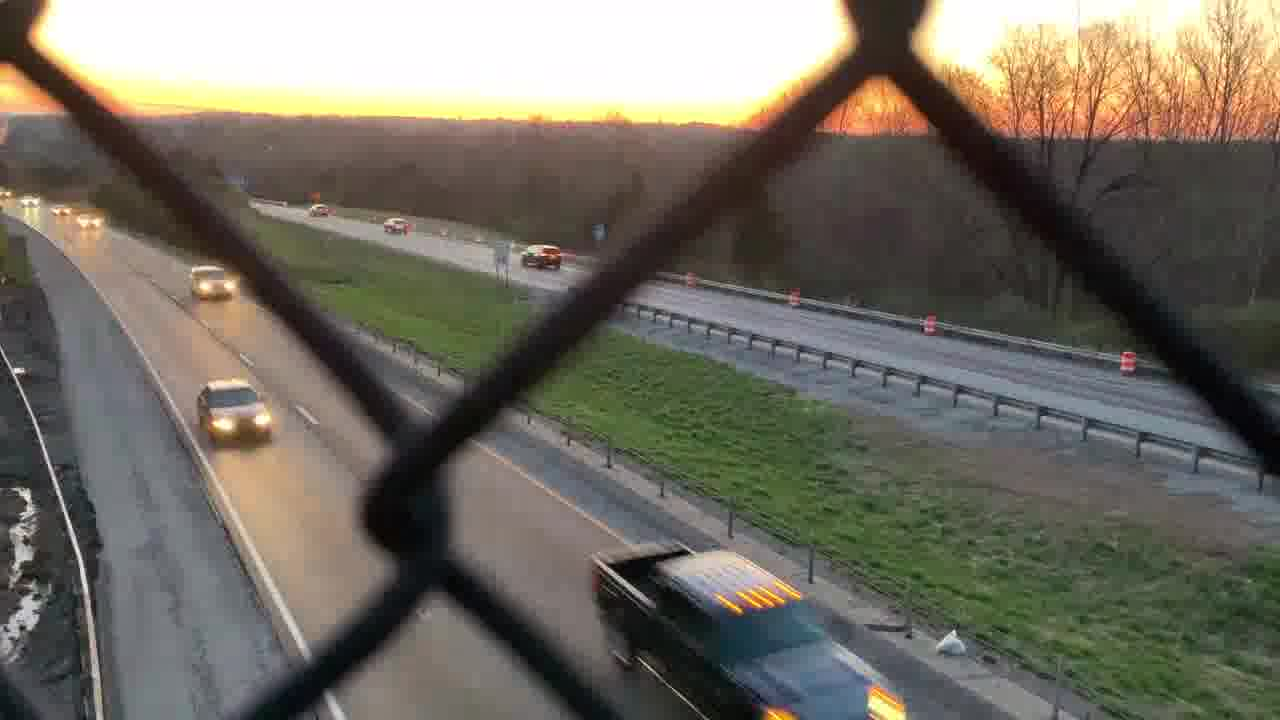largeCar: (186, 260, 240, 304), (518, 243, 569, 269), (383, 213, 411, 233), (305, 201, 333, 218)
lightTruck: (587, 537, 910, 720)
smallCar: (197, 379, 276, 452), (74, 210, 104, 230), (21, 189, 41, 208), (50, 201, 72, 217)
